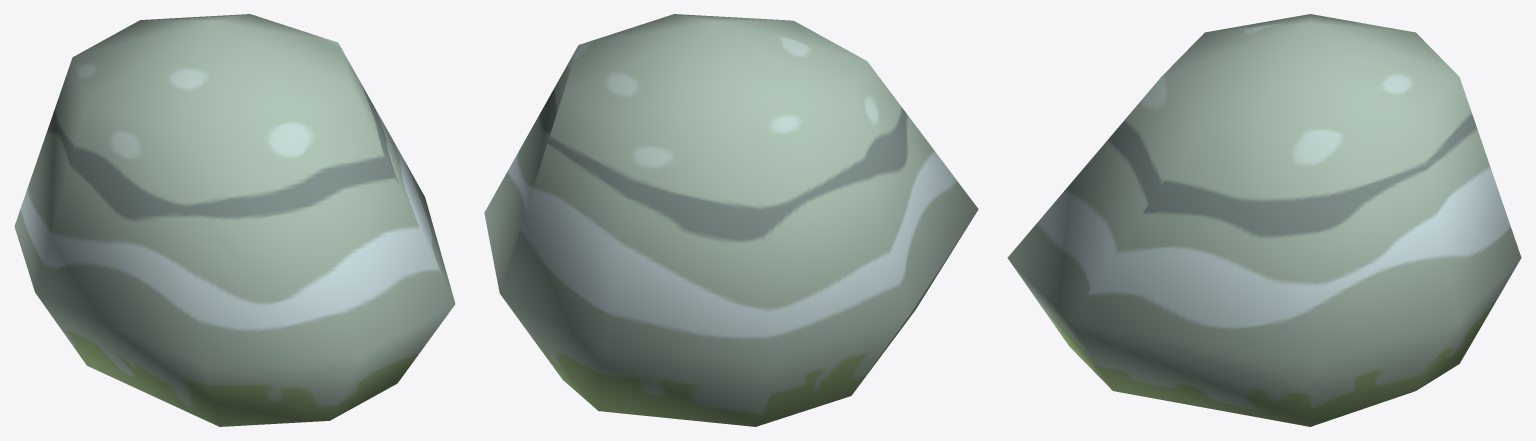
Rendered from pedra01.FBX.
3 views of the same model, side by side, from view 1: azimuth 30°, elevation 25°; view 2: azimuth 150°, elevation 25°; view 3: azimuth 270°, elevation 25° (orthographic). The views are drawn at different scales.
Parts seen in each view (by area): view 1: pedra01; view 2: pedra01; view 3: pedra01.
Part boxes in pixels (box(x1,y1,x2,y2)): pedra01: box(14, 14, 455, 426); pedra01: box(484, 14, 978, 426); pedra01: box(1007, 14, 1521, 426).
Bounding box in the file's own units: 40.12 × 30.83 × 44.5.
